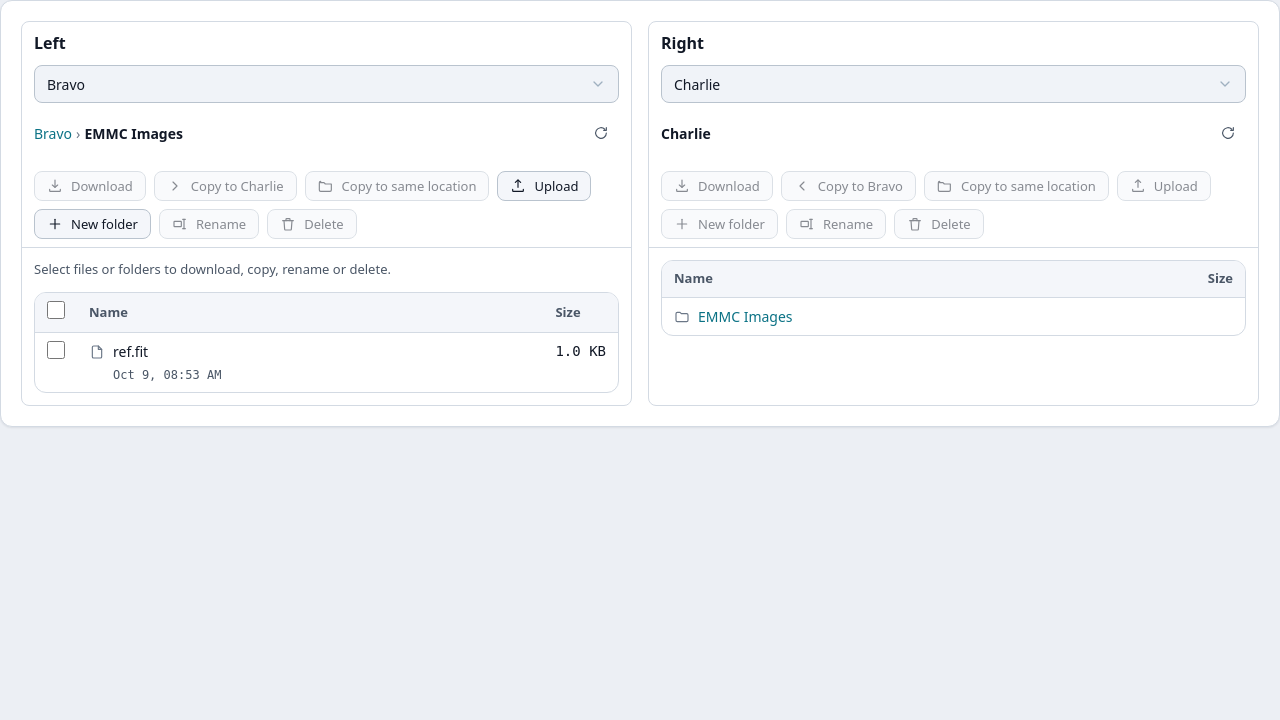
Scenario: DeviceFilesPanel accessibility › starts a download with a toast and focuses the pane's listing
Click the checkbox named "Select ref.fit (Bravo)".
click(56, 350)  # box [47,341,65,359]
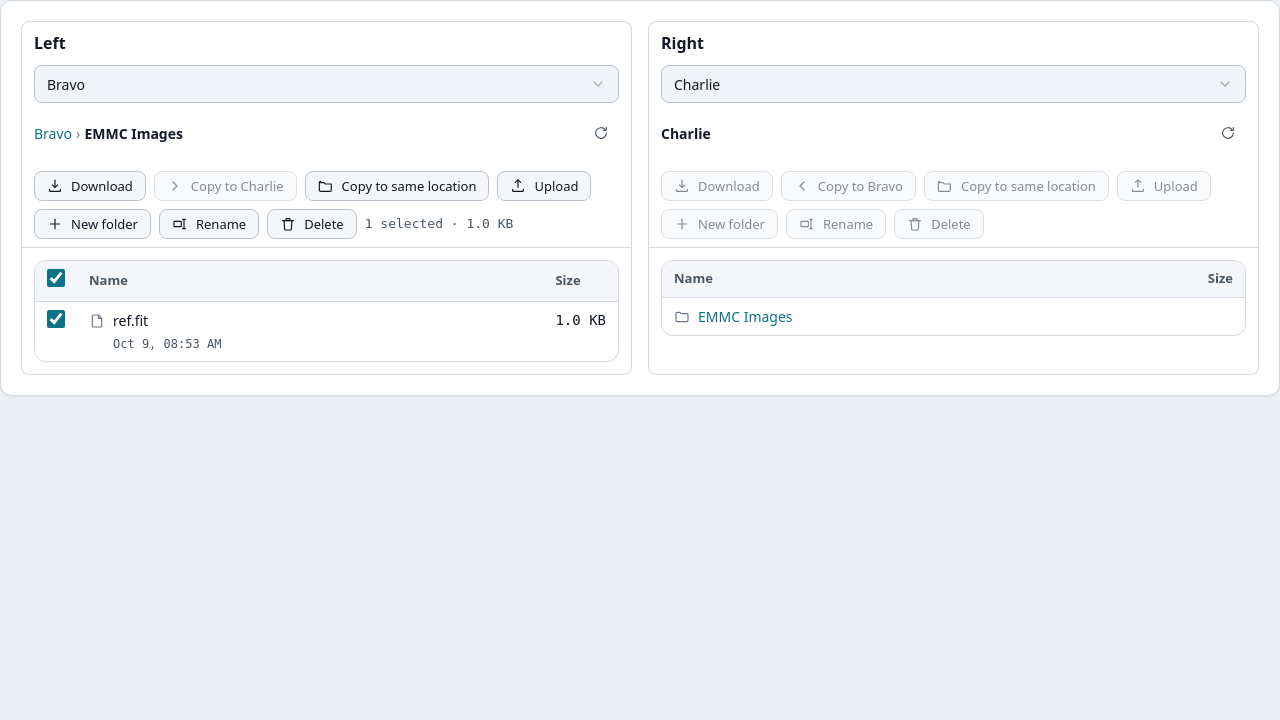
Click the button "Download" below "Left".
click(90, 186)  # box [34,171,146,201]
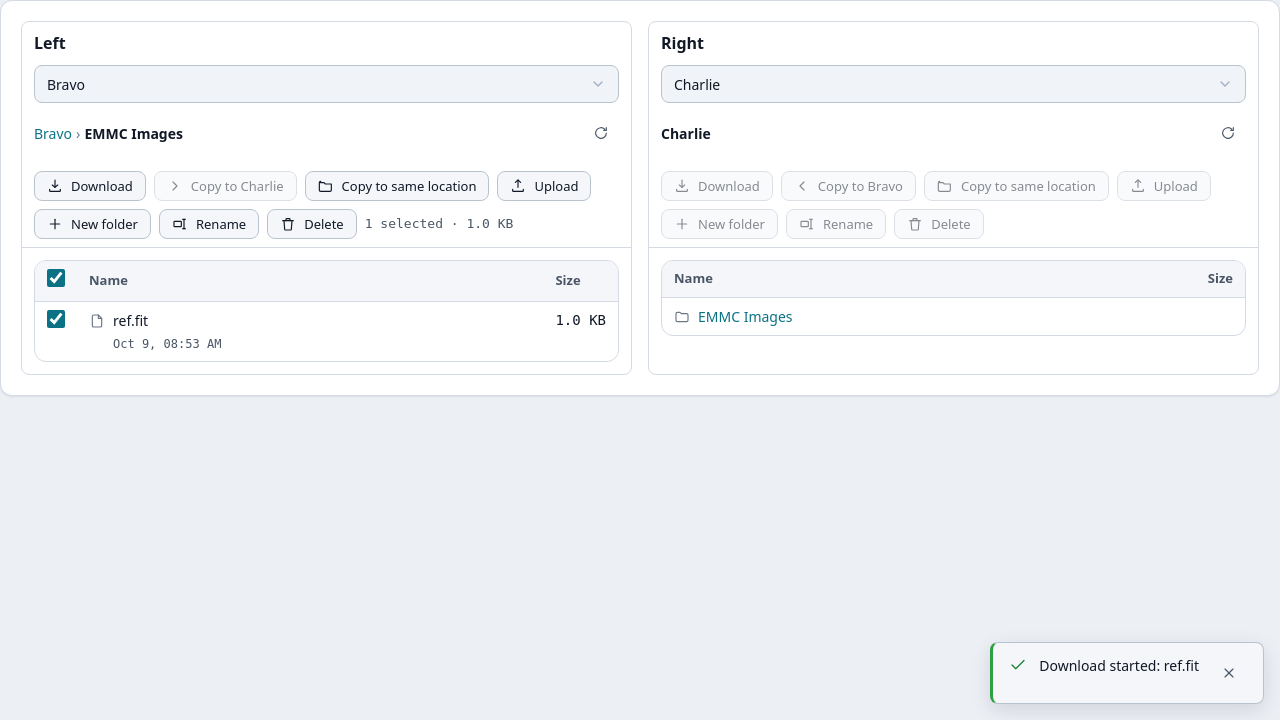
Expected: the text "Download started: ref.fit" is shown, [1039,655,1199,676]
